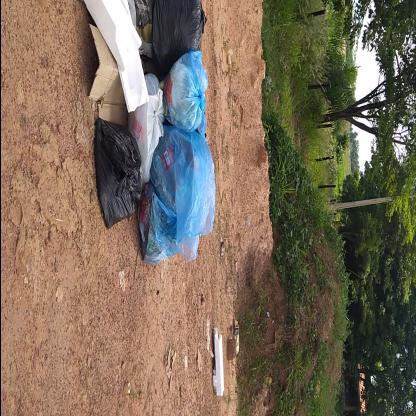lixo: (97, 0, 206, 238)
